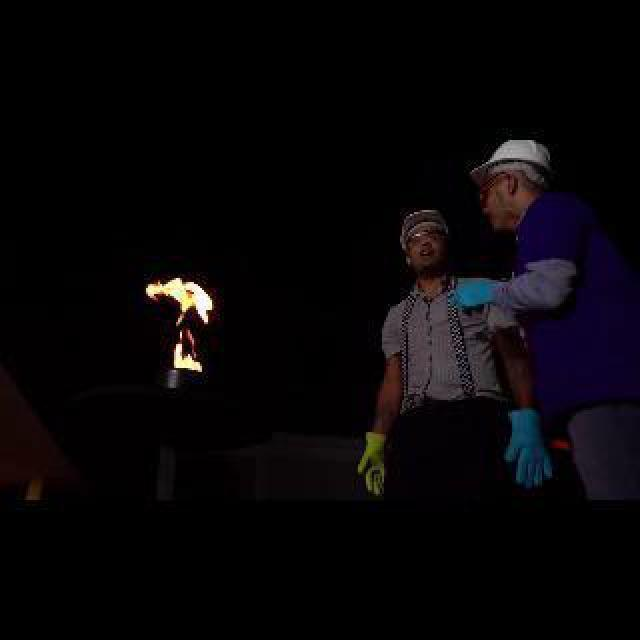Fire: (148, 274, 236, 368)
